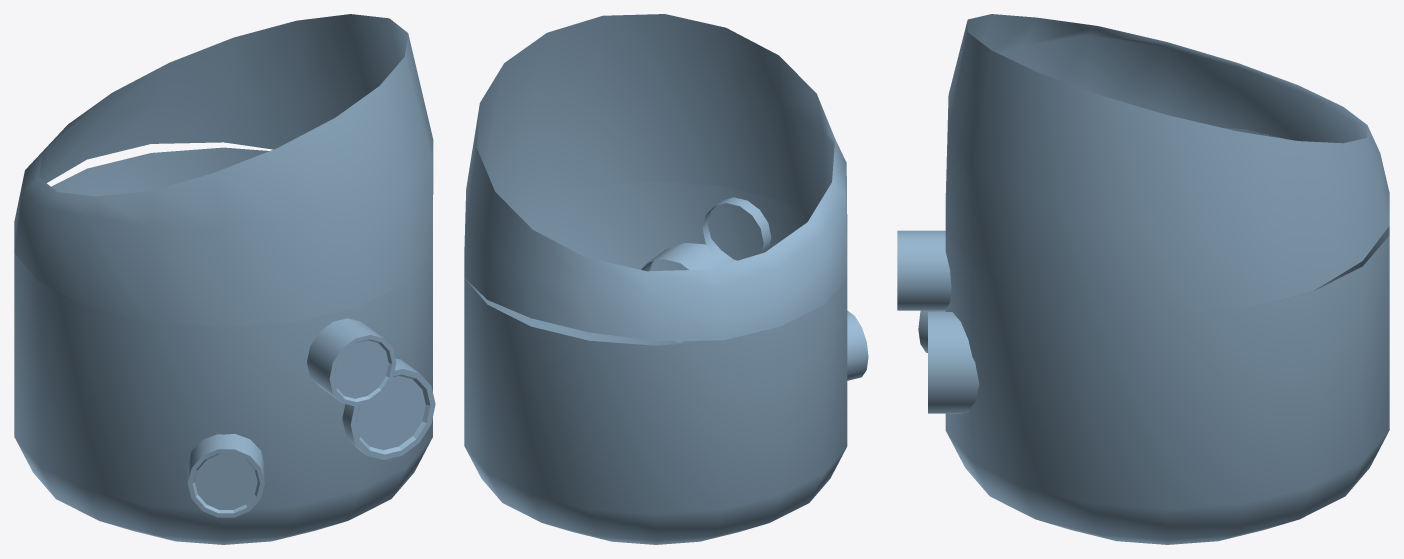
Rendered from probe.FBX.
3 renders of one model, left to right at view 1: azimuth 30°, elevation 25°; view 2: azimuth 150°, elevation 25°; view 3: azimuth 270°, elevation 25°, orthographic. The views are drawn at different scales.
Visible parts, largest first — view 1: probe_ncl1_1, Cylinder1444; view 2: Cylinder1444, probe_ncl1_1; view 3: Cylinder1444, probe_ncl1_1.
Boxes of the visible parts, box(x1,y1,x2,y2) form: probe_ncl1_1: box(14, 14, 433, 327); Cylinder1444: box(14, 147, 435, 544); Cylinder1444: box(464, 181, 868, 544); probe_ncl1_1: box(464, 14, 847, 340); Cylinder1444: box(897, 127, 1389, 544); probe_ncl1_1: box(945, 14, 1389, 313).
Size of the model in its own units: 0.00835 by 0.00911 by 0.00963.
